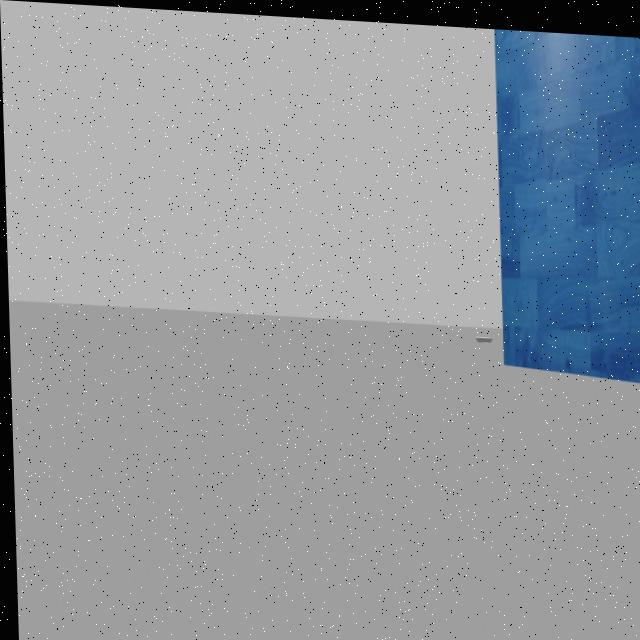bowl: (469, 318, 495, 345)
shelf: (485, 23, 640, 386)
